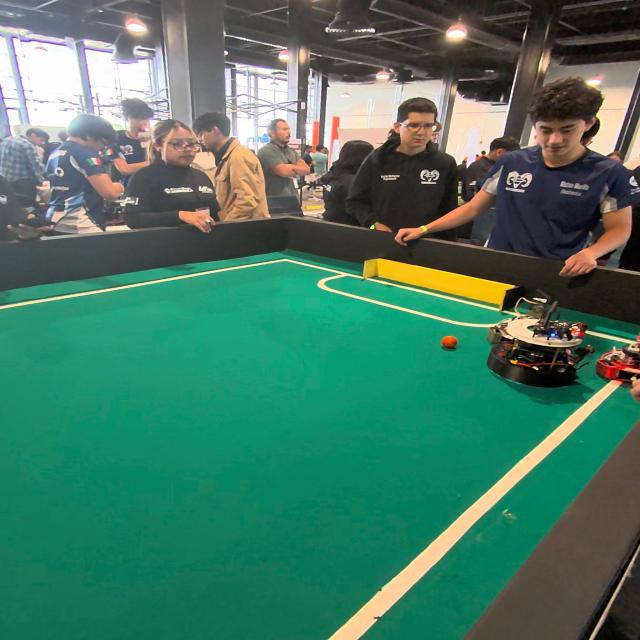Robot: (485, 289, 597, 395), (598, 332, 640, 389), (442, 336, 457, 348)
